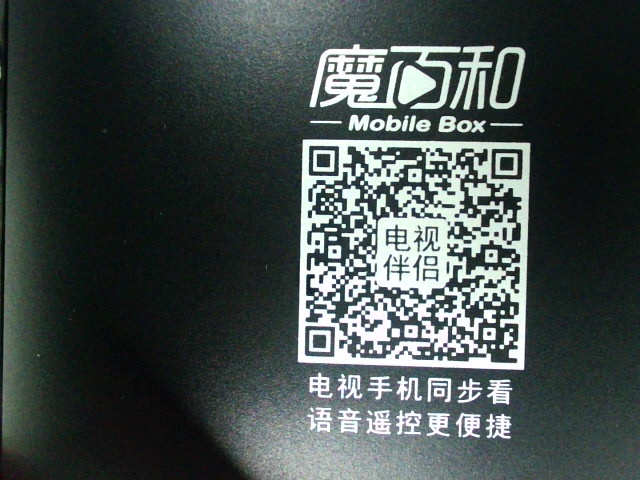AZ_MobileBox: (287, 37, 540, 444)
